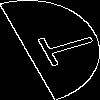T: (25, 25, 100, 71)
